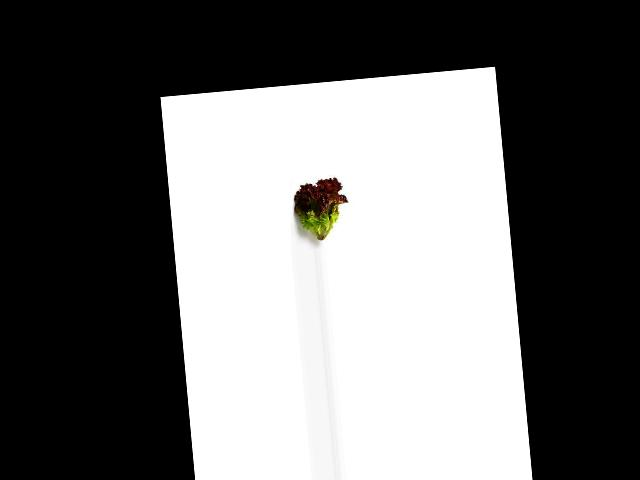lettuce: (290, 173, 350, 250)
